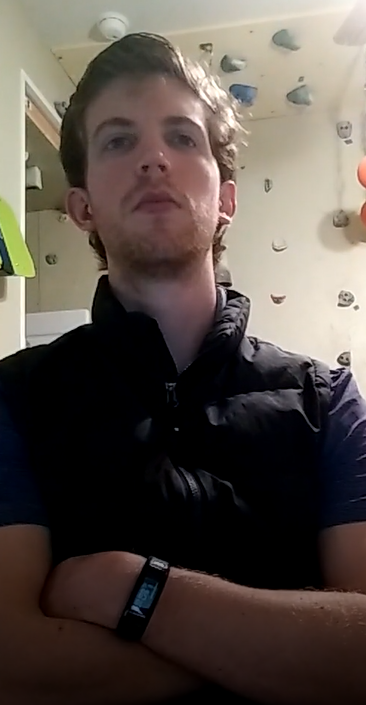Not Sleeping: (82, 114, 220, 159)
